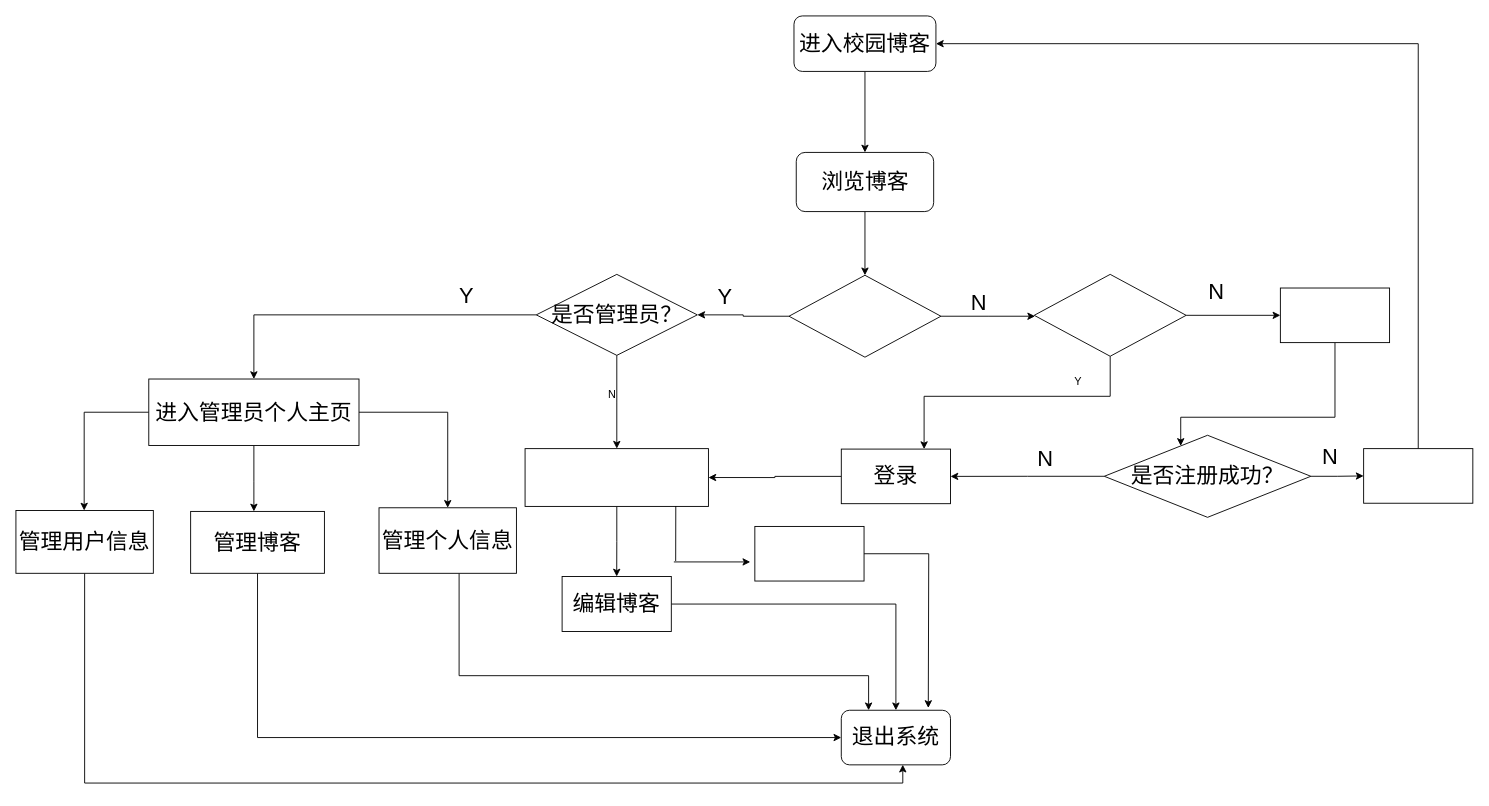
The diagram is 1489 pixels wide and 806 high, and some of its shapes have lost their labels. The shapes that lost their labels are listed below. From the top down, each one's centre as x and y in pixels, then its label:
[864,315]: 是否登录？
[1109,314]: 是否注册？
[1334,315]: 注册
[616,477]: 进入用户个人主页
[1418,475]: 游客
[809,553]: 编辑个人信息
